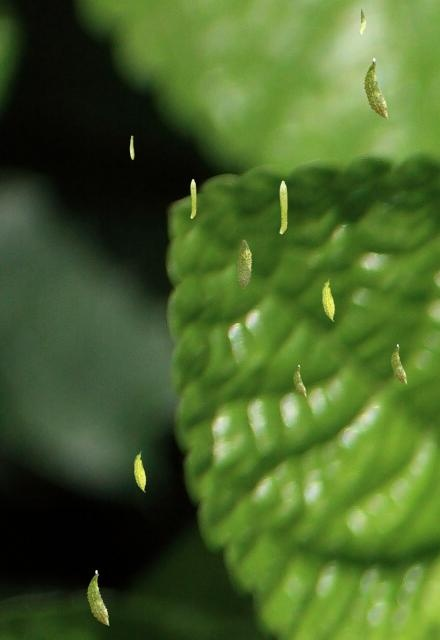ampalaya: (363, 57, 388, 119), (86, 569, 109, 625), (236, 239, 252, 289), (390, 344, 407, 384), (321, 278, 334, 322), (133, 451, 146, 492), (292, 364, 306, 397), (279, 180, 287, 234), (190, 178, 196, 218), (359, 7, 366, 34), (129, 135, 134, 160)
